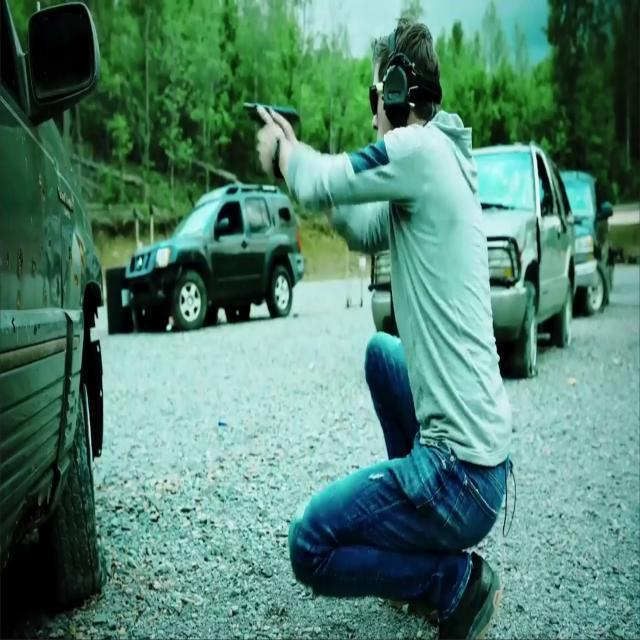gun: (250, 100, 298, 182)
